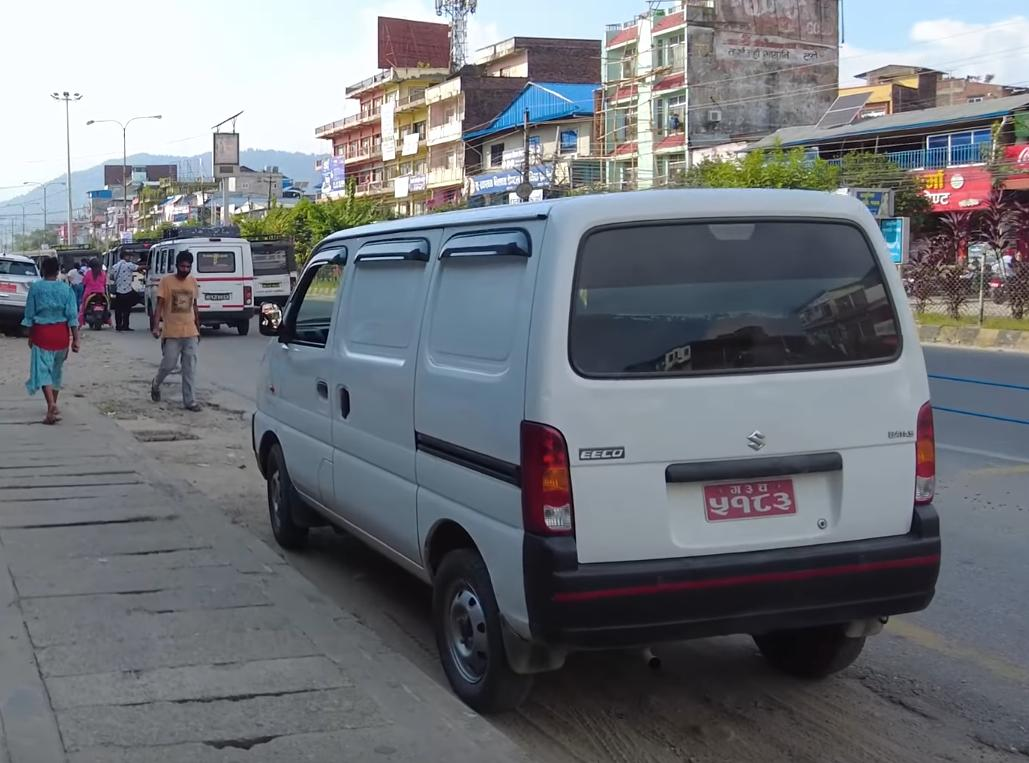van: (251, 173, 944, 713)
